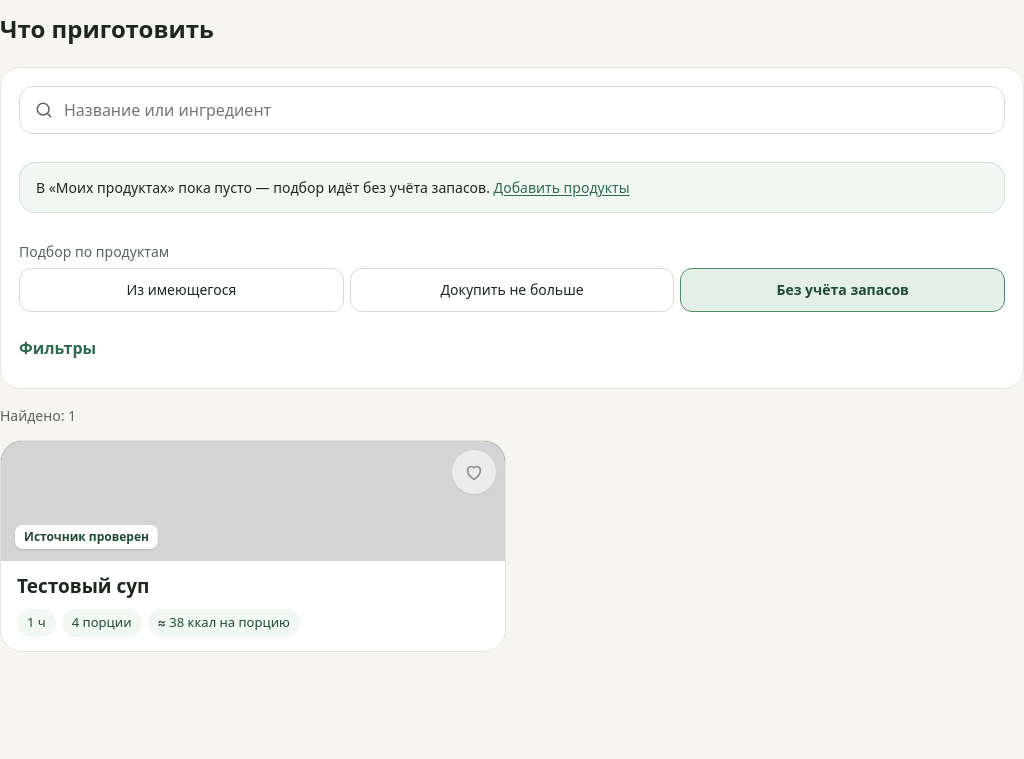
Test: уточнённый справочник (B1) › свои данные с упаковки заменяют справочные в рецепте и на карточке
Click the link "Тестовый суп".
click(253, 546)  # box [0,440,506,652]
(page scrolled)
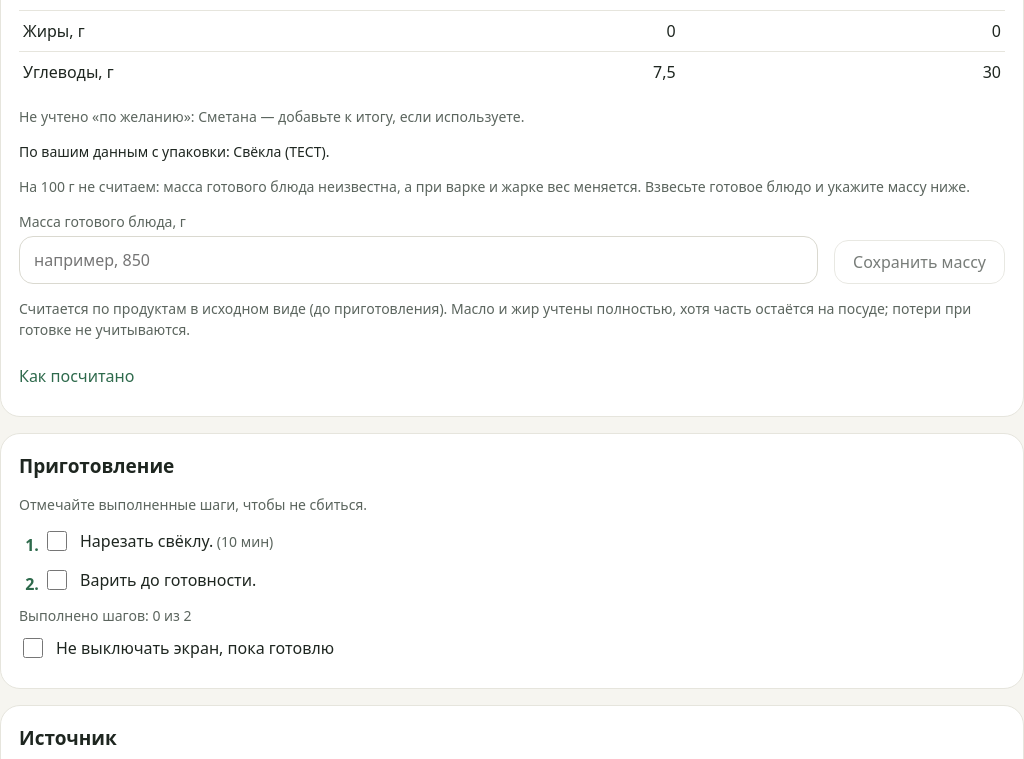
Expected: the text "По вашим данным с упаковки: Свёкла (ТЕСТ)." is shown, [19,142,330,161]
Click the heading "Как посчитано".
click(77, 376)  # box [19,365,134,387]
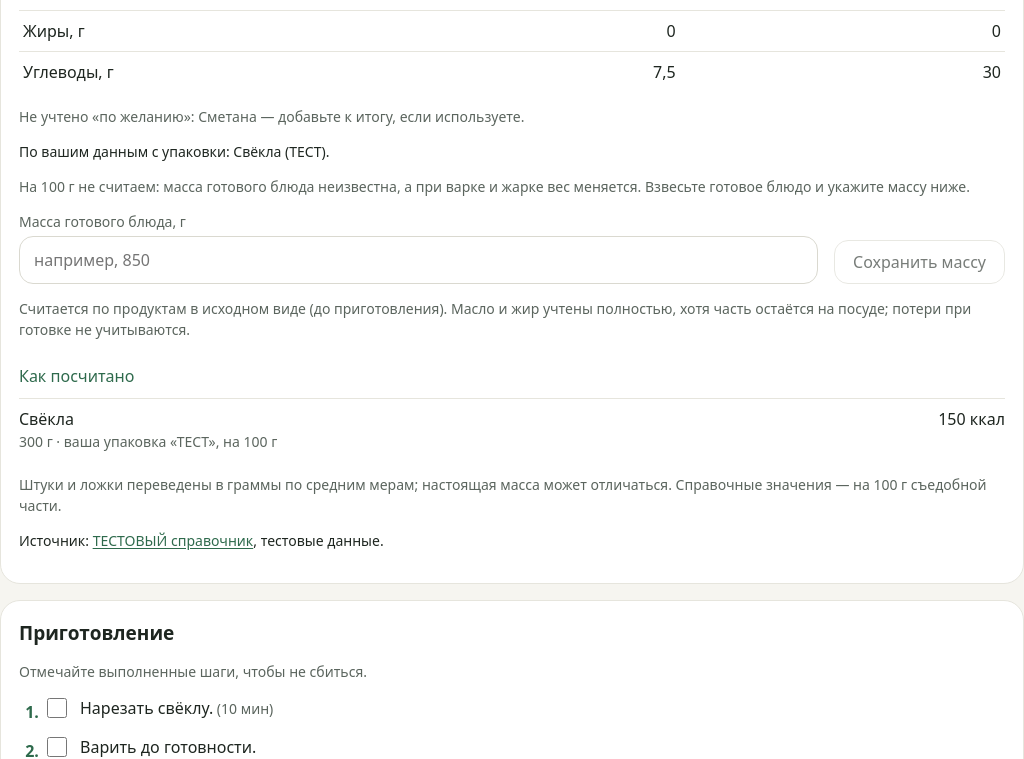
Expected: the text "300 г · ваша упаковка «ТЕСТ», на 100 г" is shown, [19,431,277,452]
